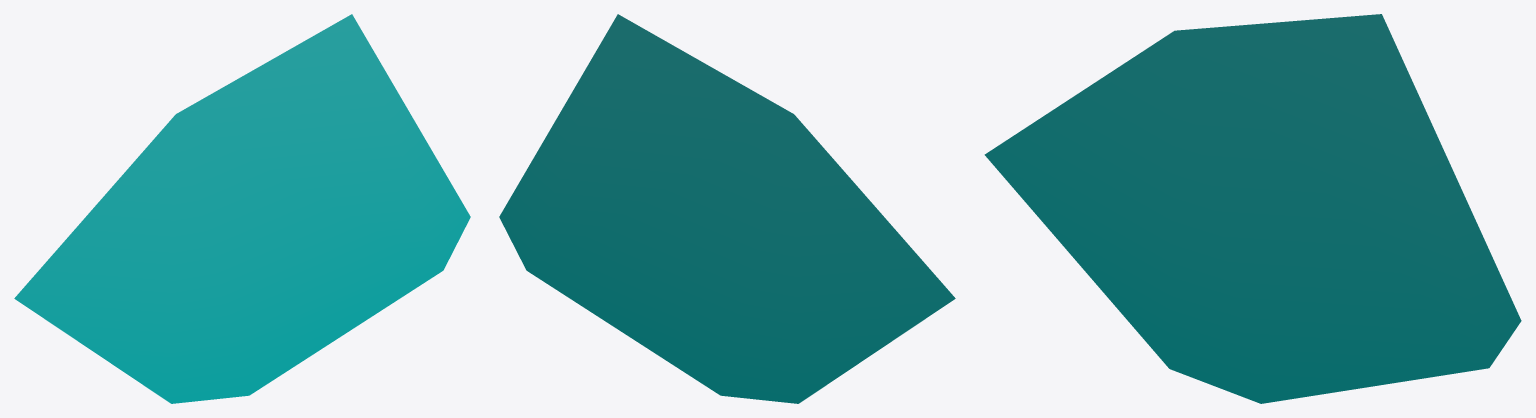
Rendered from Wild_Grass_sjliZ_Mid_sjliZ_VarD_LOD2.fbx.
3 views of the same model, side by side, from view 1: azimuth 30°, elevation 25°; view 2: azimuth 150°, elevation 25°; view 3: azimuth 330°, elevation 25° (orthographic). The views are drawn at different scales.
Visible parts, largest first — view 1: _854f_VarD_LOD3; view 2: _854f_VarD_LOD3; view 3: _854f_VarD_LOD3.
Part boxes in pixels (x1,y1,x2,y2): _854f_VarD_LOD3: (14,14,470,403); _854f_VarD_LOD3: (499,14,955,403); _854f_VarD_LOD3: (984,14,1521,403).
Bounding box in the file's own units: 86.13 × 64.28 × 0.
